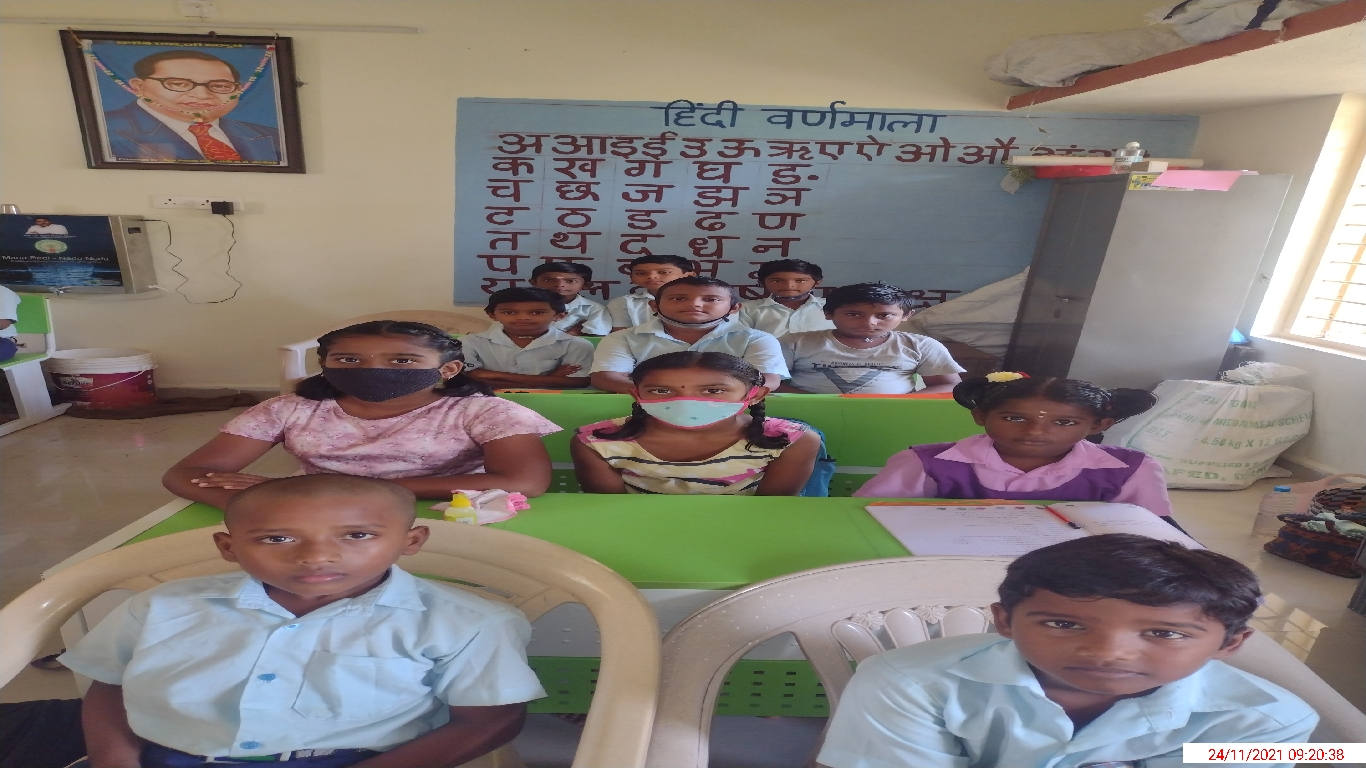student: (288, 330, 1165, 528), (287, 554, 1265, 701), (535, 233, 914, 330)
